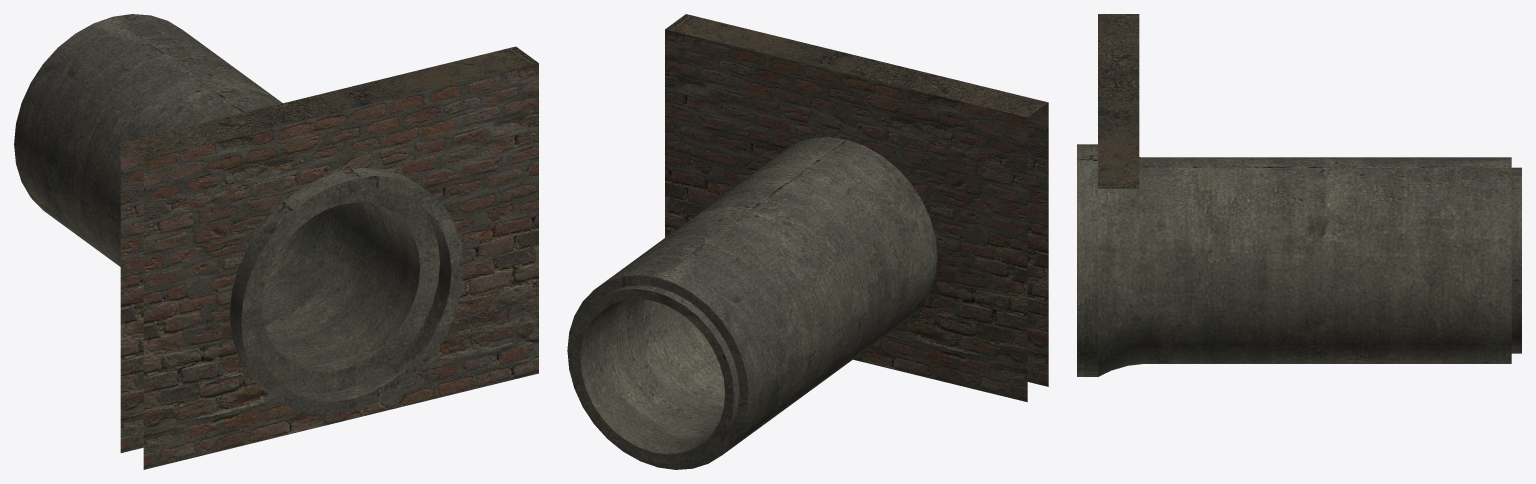
Rendered from wall_hr_1_hole_2.obj.
3 views of the same model, side by side, from view 1: azimuth 30°, elevation 25°; view 2: azimuth 150°, elevation 25°; view 3: azimuth 270°, elevation 25° (orthographic). The views are drawn at different scales.
Visible parts, largest first — view 1: wall_hr_1_hole_2; view 2: wall_hr_1_hole_2; view 3: wall_hr_1_hole_2.
Boxes of the visible parts, box(x1,y1,x2,y2) form: wall_hr_1_hole_2: box(14, 14, 538, 469); wall_hr_1_hole_2: box(567, 14, 1048, 469); wall_hr_1_hole_2: box(1077, 14, 1521, 376).
Size of the model in its own units: 4 by 3 by 4.3.
